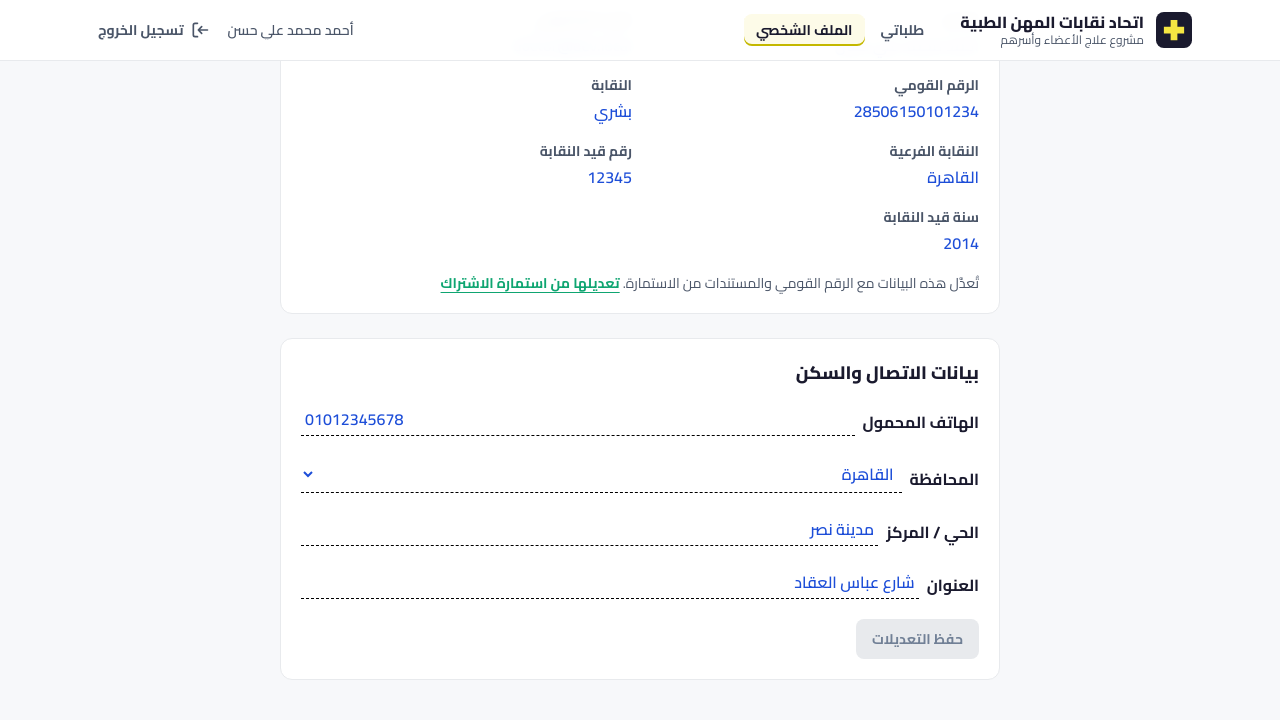
Test: ProfilePage › shows the server's field errors on the matching field
This screenshot has width=1280, height=720.
(page scrolled)
Step 1. Type " ٣" into the field labelled "العنوان" → (610, 582), box [301,566,919,599]
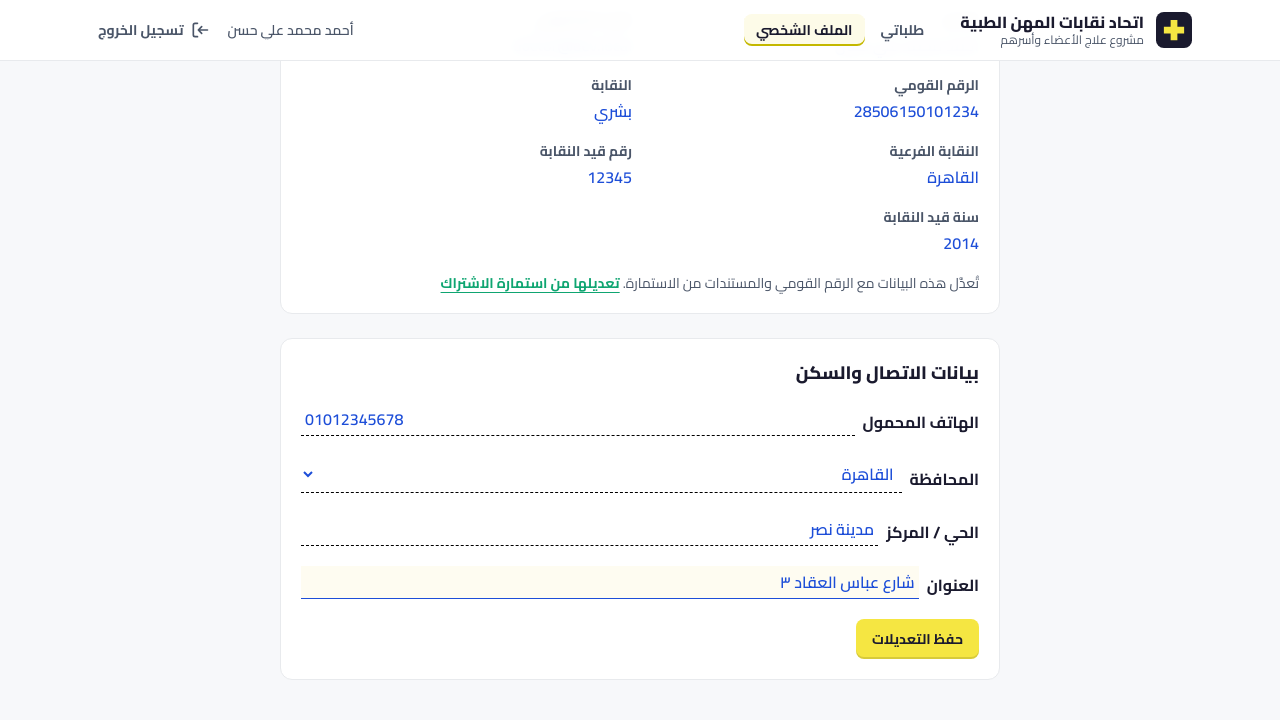
Step 2. Click the button "حفظ التعديلات" → (918, 639), box [856,619,979,659]
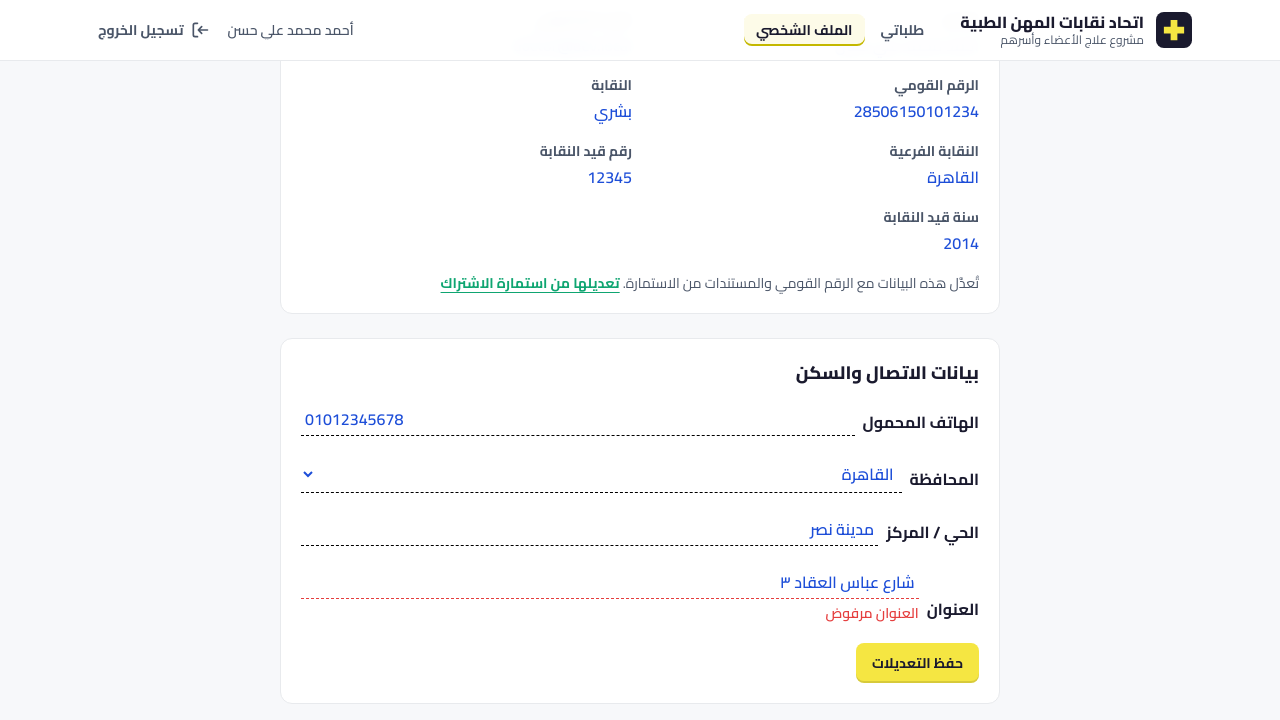
Expected: the text "العنوان مرفوض" is shown, [826,600,919,626]
